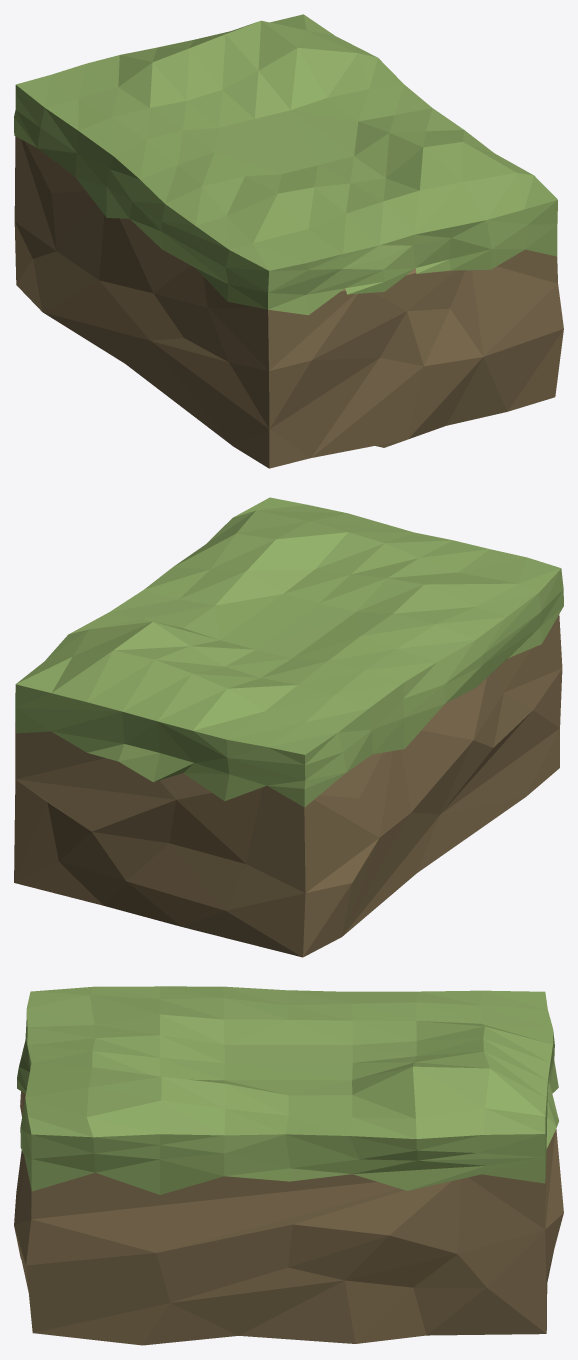
Rendered from natural_island.fbx.
3 views of the same model, one above another, from view 1: azimuth 30°, elevation 25°; view 2: azimuth 150°, elevation 25°; view 3: azimuth 270°, elevation 25° (orthographic).
Visible parts, largest first — view 1: grass, dirt; view 2: grass, dirt; view 3: grass, dirt.
Part boxes in pixels (x1,y1,x2,y2): grass: [14, 14, 557, 315]; dirt: [14, 136, 563, 468]; grass: [15, 497, 563, 807]; dirt: [14, 614, 562, 957]; grass: [17, 986, 558, 1194]; dirt: [14, 1091, 563, 1345].
Bounding box in the file's own units: 896 × 715 × 1309.
